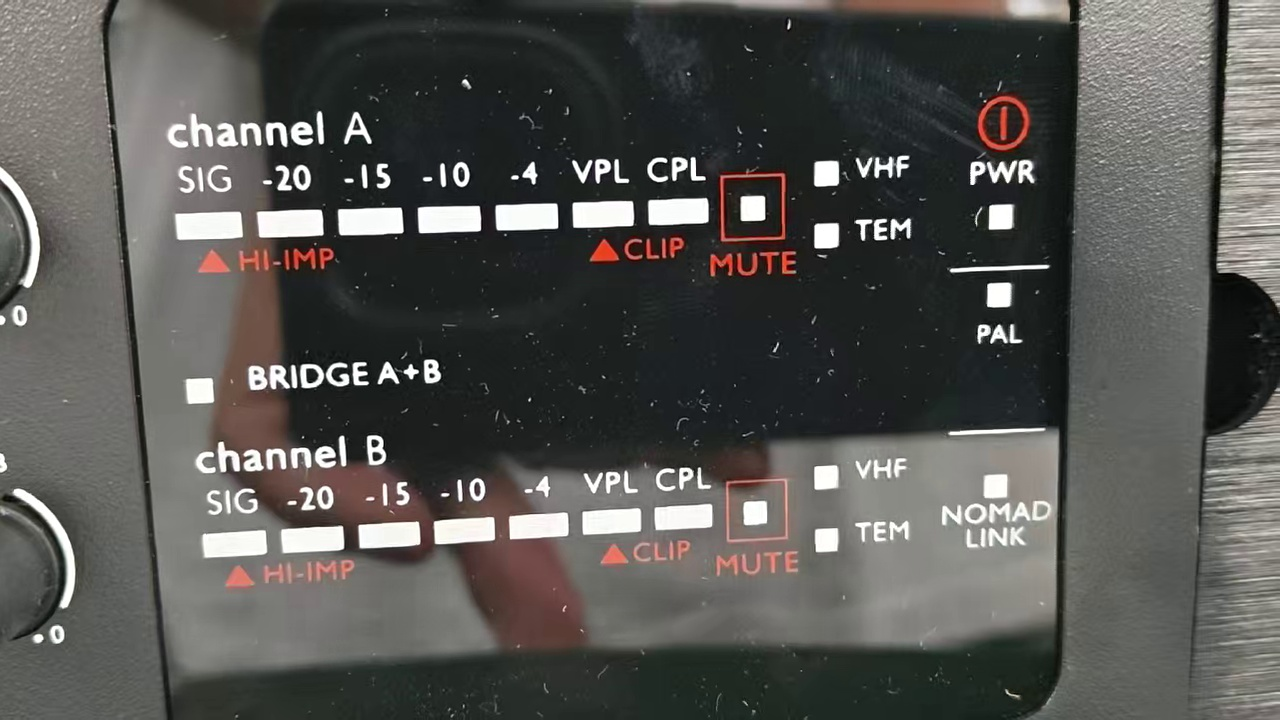FP_CPL: (652, 463, 720, 537), (645, 154, 711, 230)
FP_PWR: (961, 154, 1042, 240)
FP_PWR_area: (948, 90, 1052, 266)
FP_SIG_area: (190, 424, 908, 587), (165, 150, 921, 289)
FP_VPL: (578, 464, 645, 543), (568, 156, 636, 232)
